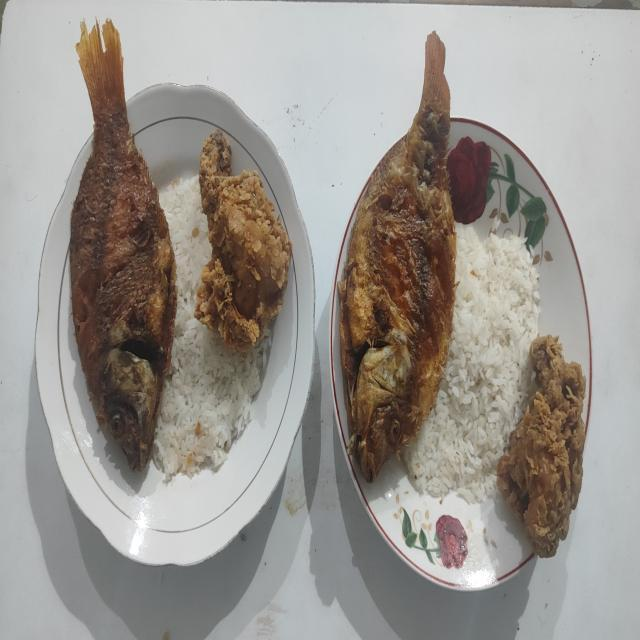ikan_mujair: (338, 32, 456, 482), (69, 20, 177, 470)
nasi_putih: (402, 228, 540, 502), (153, 177, 270, 481)
